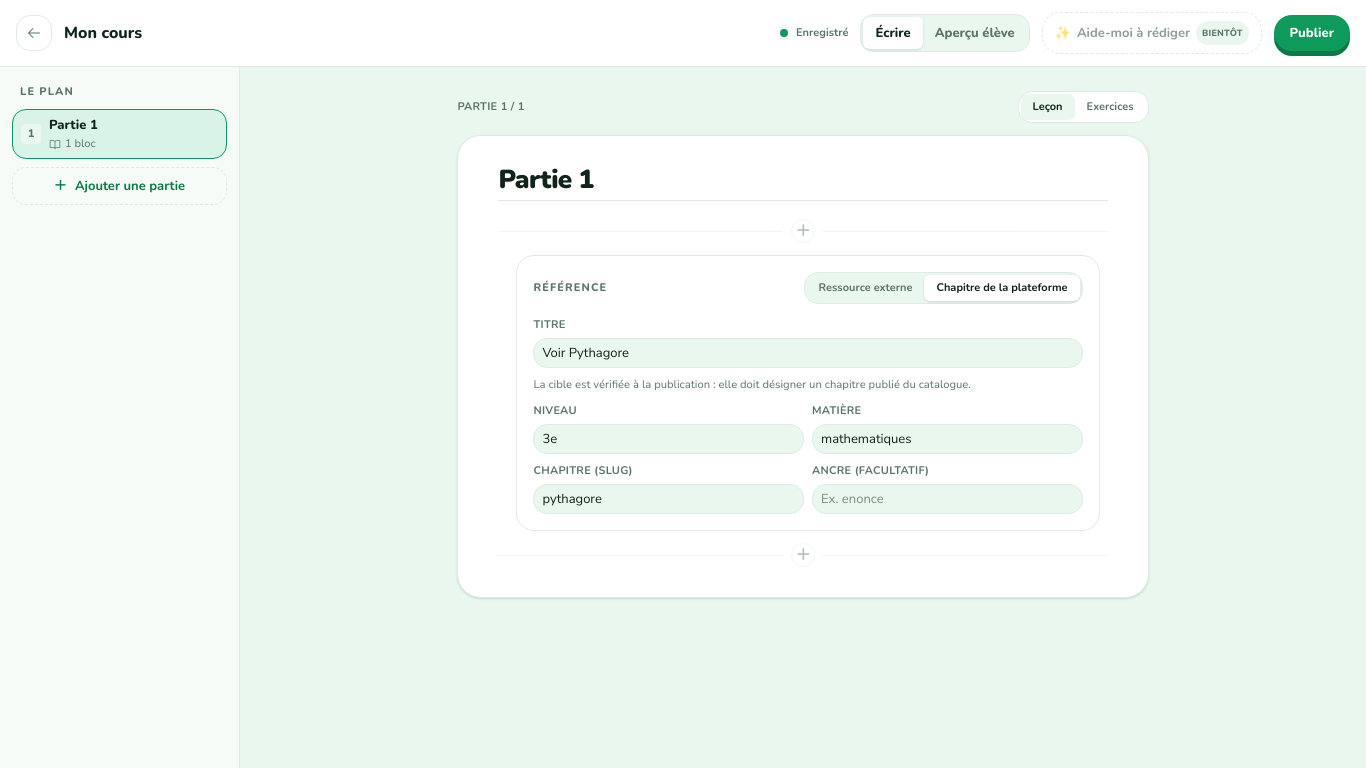
Test: EditeurCours — validation avant publication › vérifie une référence interne contre le catalogue à l’ouverture de « Publier »
The width and height of the screenshot is (1366, 768).
Expected: the field named "Titre du cours" is shown, [64, 21, 768, 45]
Click the button "Publier" at (1312, 33), box [1274, 15, 1350, 51]
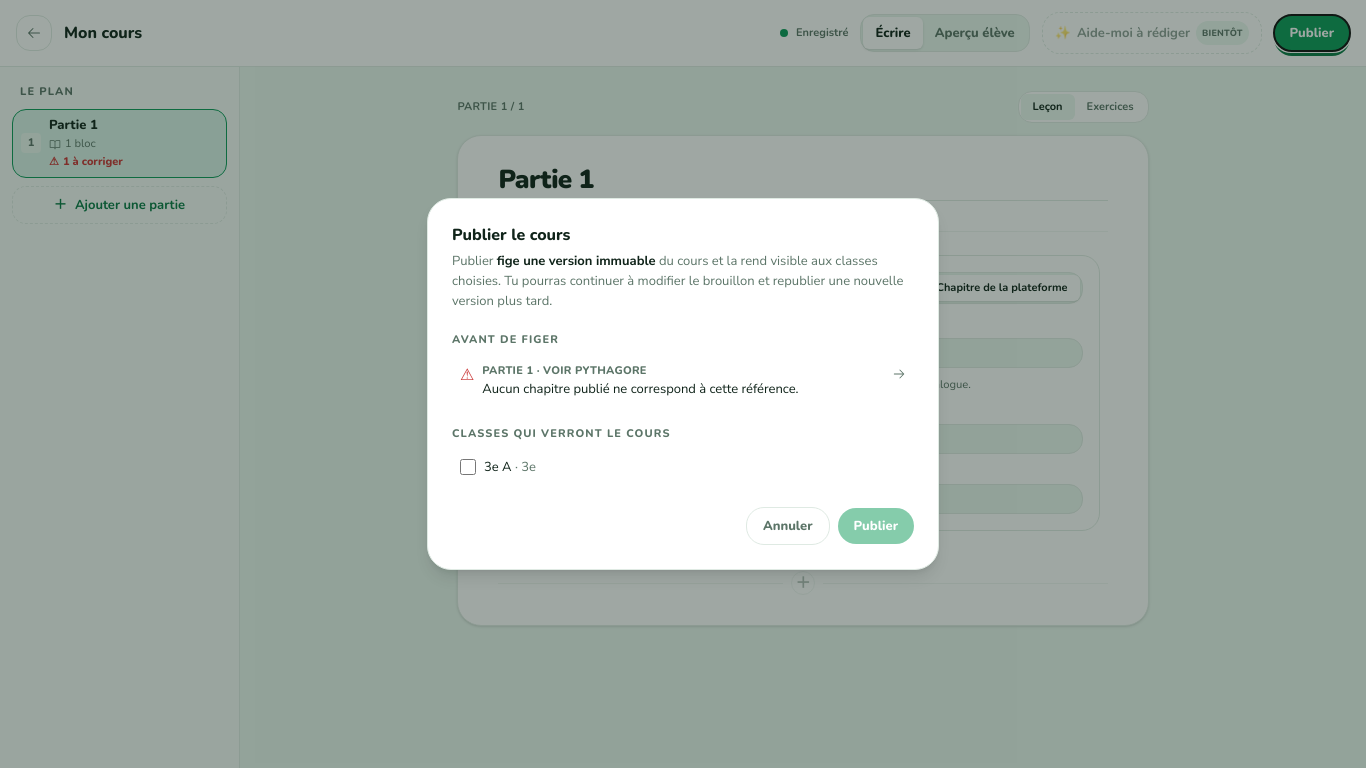
Result: the button "Aucun chapitre publié ne correspond" is shown at [452, 357, 914, 405]
